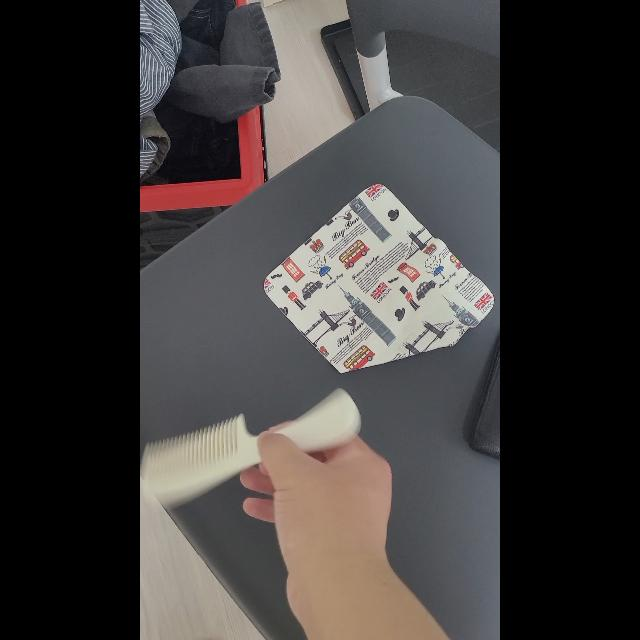COMB: (140, 388, 360, 509)
Glasses cleaning cloth: (264, 184, 494, 373)
WALLET: (470, 338, 500, 459)
